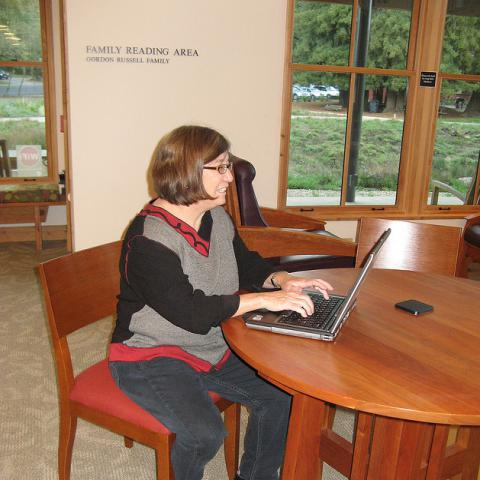car: (311, 86, 340, 100), (293, 85, 315, 103)
